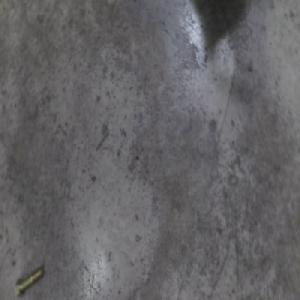Bolt: (14, 267, 42, 298)
